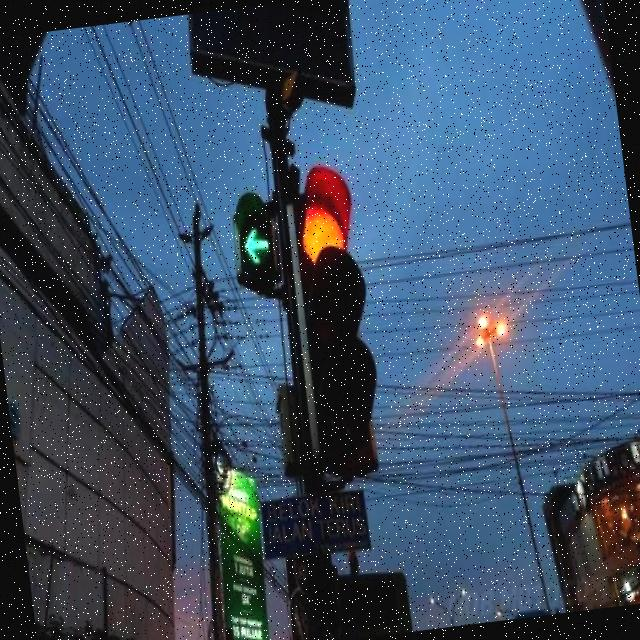Czerwone swiatlo: (288, 168, 378, 477)
